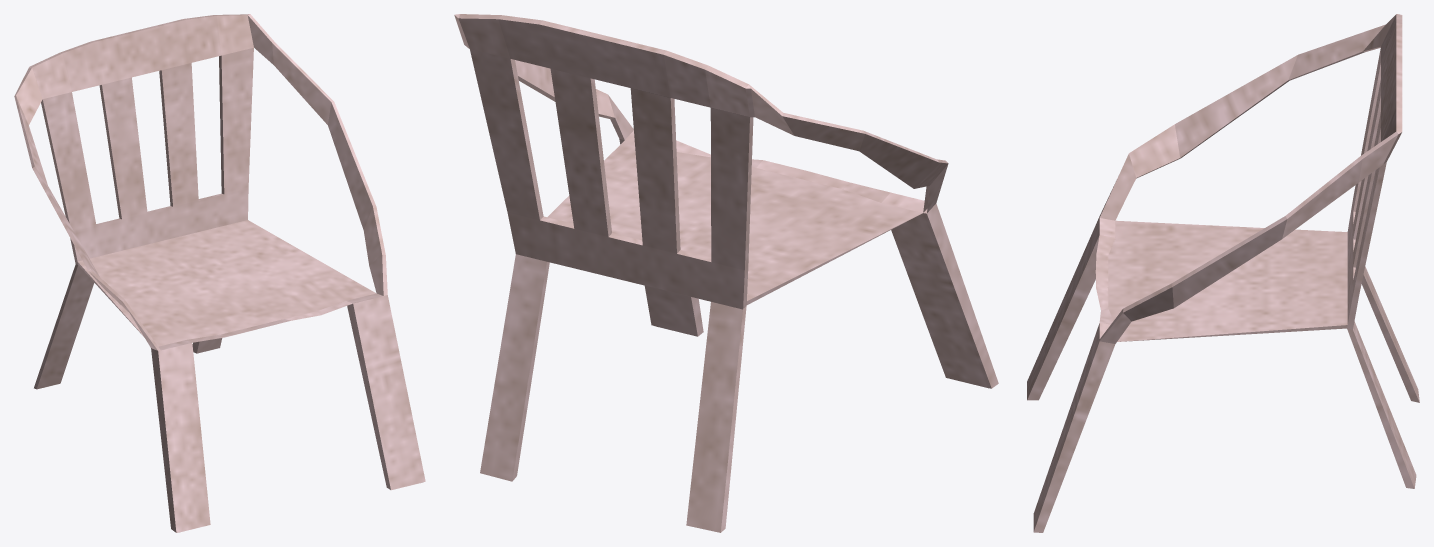
The model's file is plastic_chair_2.fbx.
3 renders of one model, left to right at view 1: azimuth 30°, elevation 25°; view 2: azimuth 150°, elevation 25°; view 3: azimuth 270°, elevation 25°, orthographic. The views are drawn at different scales.
Parts seen in each view (by area): view 1: plastova zidle; view 2: plastova zidle; view 3: plastova zidle.
Part boxes in pixels (left/top/right/bottom): plastova zidle: left=14, top=14, right=425, bottom=532; plastova zidle: left=454, top=14, right=998, bottom=532; plastova zidle: left=1027, top=14, right=1419, bottom=532.
Size of the model in its own units: 78.35 by 91.47 by 80.46.
